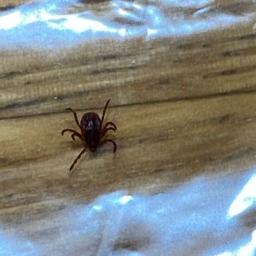Rhipicephalus sanguineus: (61, 99, 117, 173)
